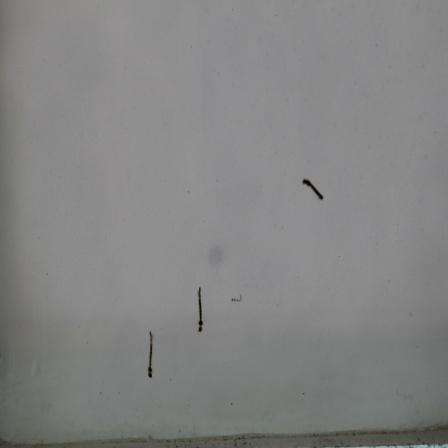Jentik-Nyamuk: (192, 283, 208, 335), (297, 175, 326, 202), (144, 328, 157, 383), (228, 290, 245, 308)
